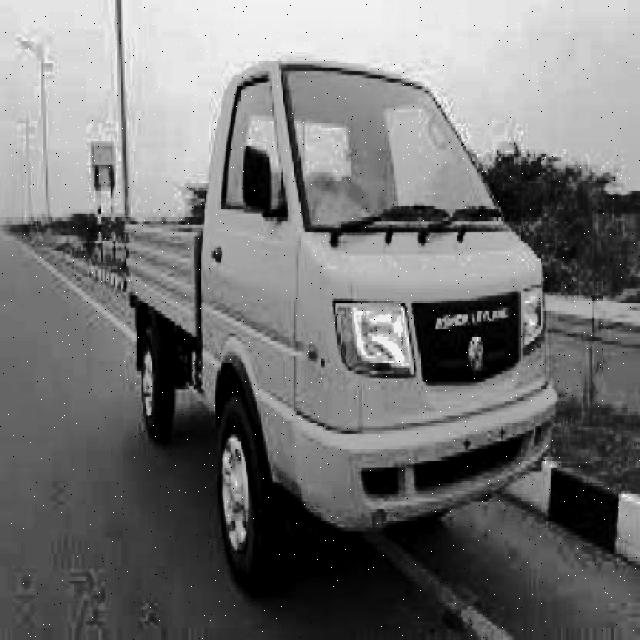LCV: (131, 86, 534, 562)
